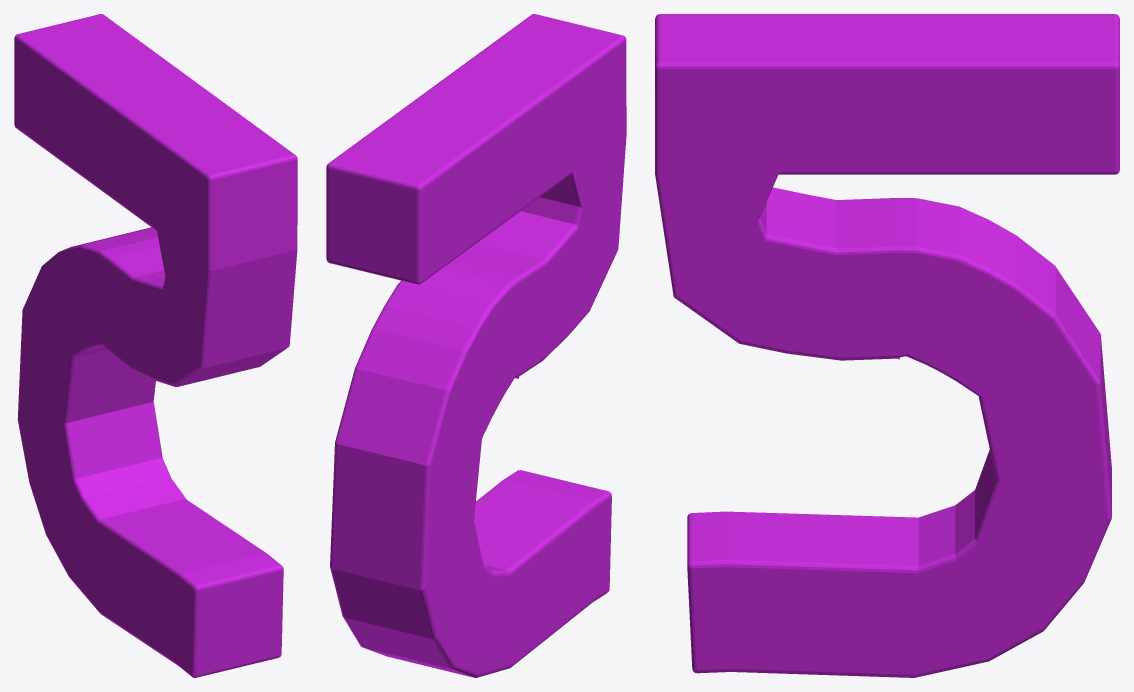
File: numero5.fbx
3 views of the same model, side by side, from view 1: azimuth 30°, elevation 25°; view 2: azimuth 150°, elevation 25°; view 3: azimuth 270°, elevation 25° (orthographic). The views are drawn at different scales.
Visible parts, largest first — view 1: Cube; view 2: Cube; view 3: Cube.
Part boxes in pixels (bbox=[...]): Cube: bbox=[14, 14, 297, 677]; Cube: bbox=[326, 14, 626, 677]; Cube: bbox=[655, 14, 1119, 677].
Size of the model in its own units: 200 by 1101 by 754.
